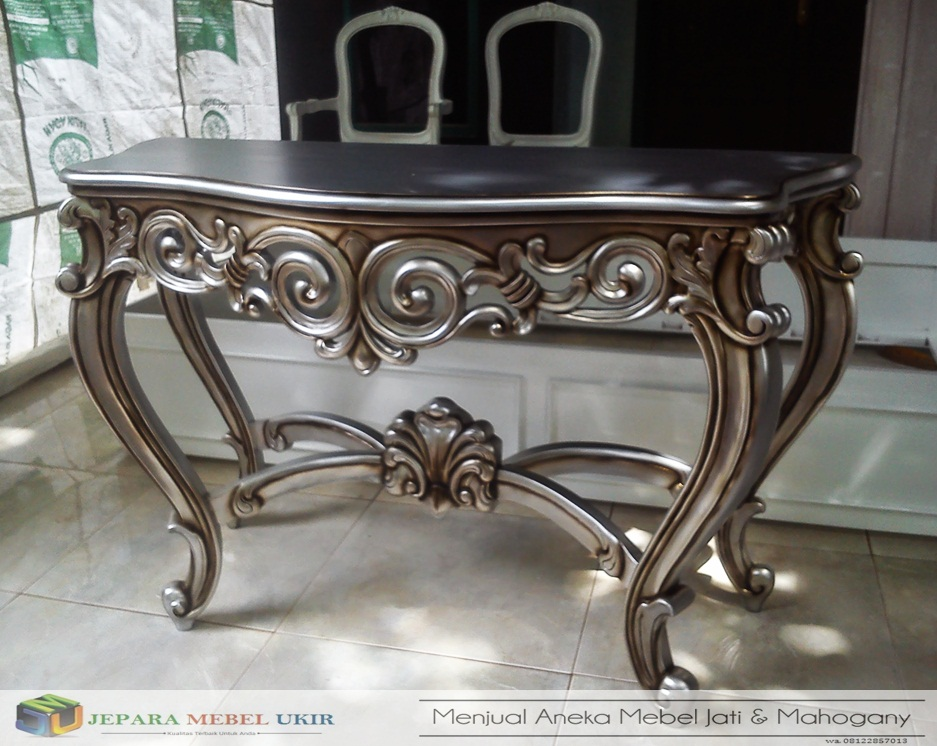Carving Table: (66, 144, 832, 673)
